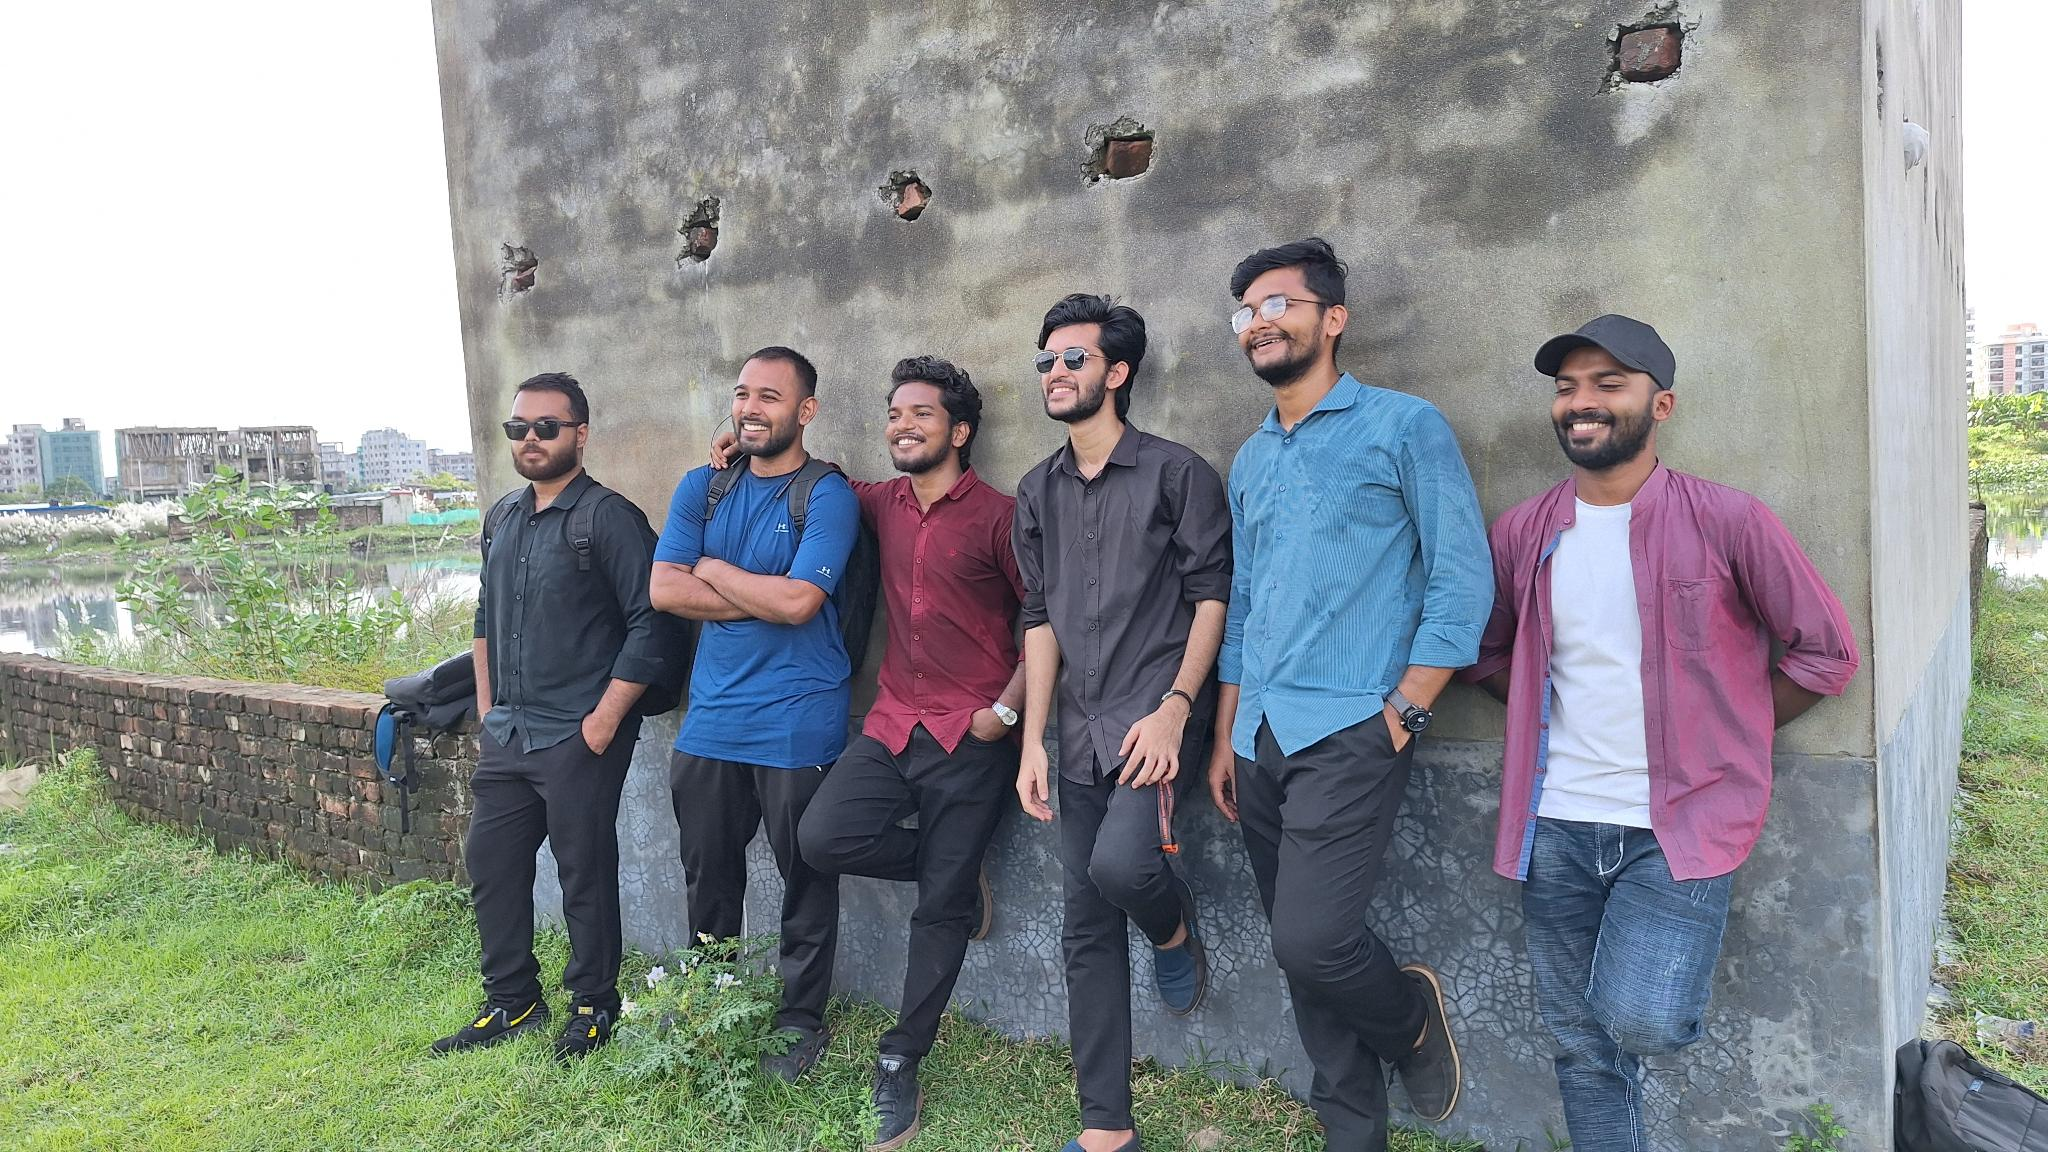nonSmoker: (1492, 307, 1857, 1152), (1222, 235, 1490, 1152), (1009, 281, 1239, 1152), (791, 353, 1021, 1152), (428, 374, 682, 1068), (648, 345, 859, 1090)
